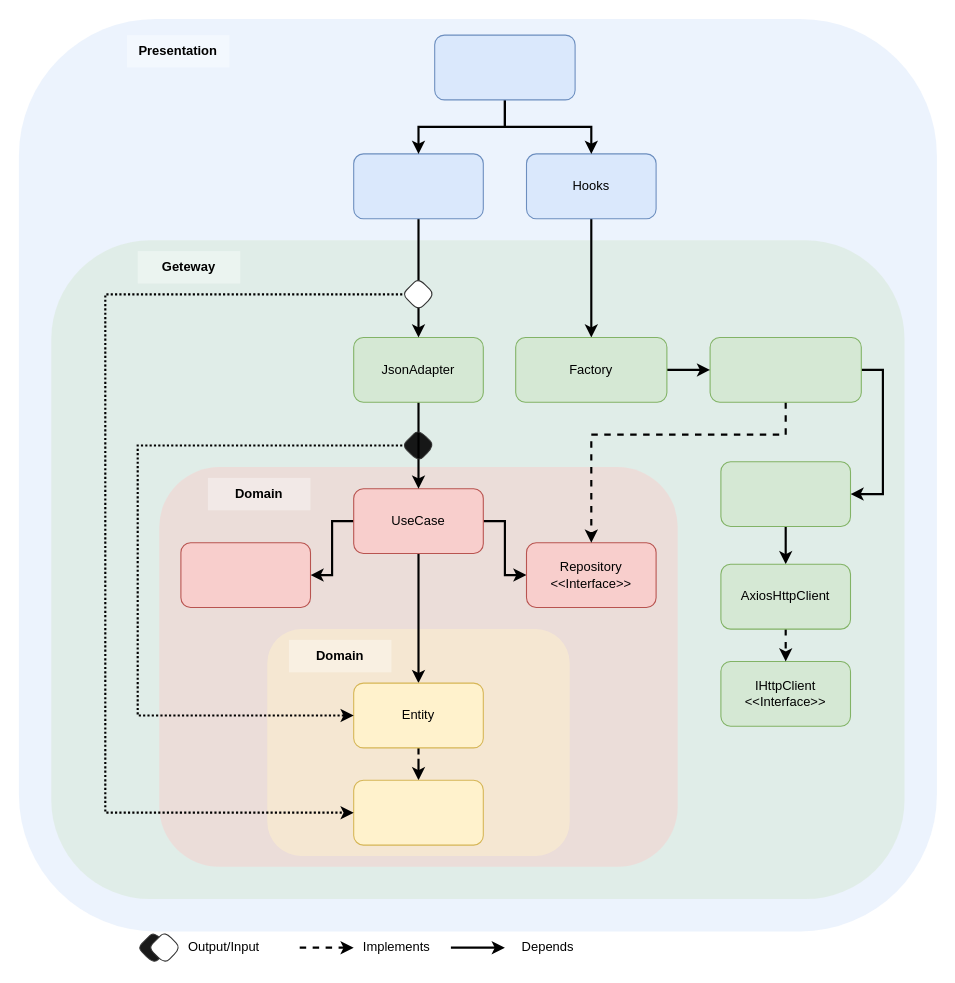
Image size: 955x983. Some labels were removed from this diagram. Each missing label, with the centre of its shape:
Business Exception: the point at 245,575
Entity <<Interface>>: the point at 418,812
GraphQLClient: the point at 785,493
GraphQLRepository: the point at 785,369
React Component: the point at 504,67
Redux: the point at 418,186
